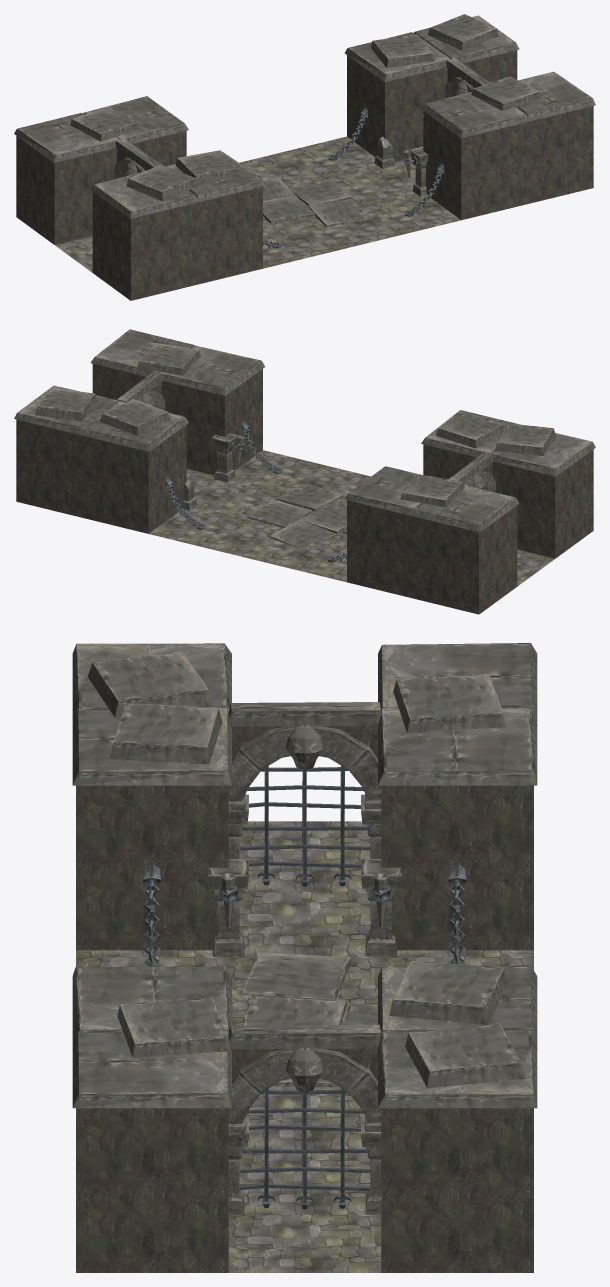
File: loop_2doors.obj
The picture shows the model from 3 angles, top to bottom: view 1: azimuth 30°, elevation 25°; view 2: azimuth 150°, elevation 25°; view 3: azimuth 270°, elevation 25°; orthographic projection. The views are drawn at different scales.
Parts seen in each view (by area): view 1: loop_2doors; view 2: loop_2doors; view 3: loop_2doors.
Boxes of the visible parts, <box> form: loop_2doors: <box>14,14,595,300</box>; loop_2doors: <box>14,329,595,614</box>; loop_2doors: <box>72,643,537,1272</box>.
Size of the model in its own units: 70.45 by 15.11 by 30.45.
